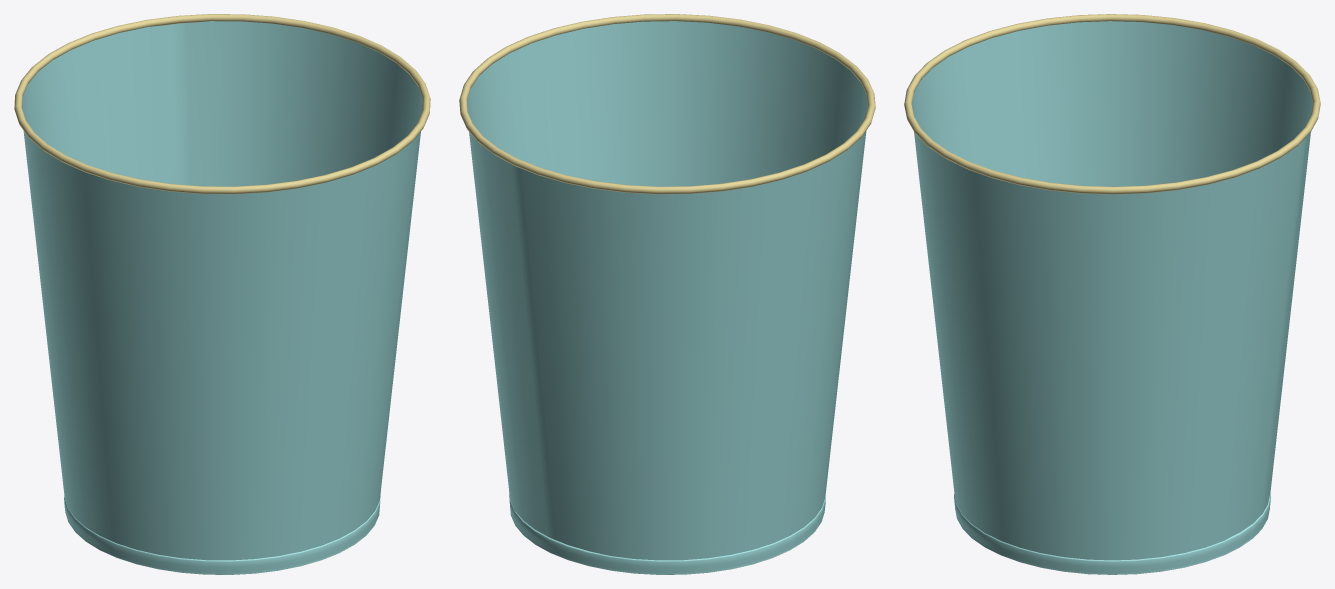
Rendered from Trash.obj.
The picture shows the model from 3 angles, left to right: view 1: azimuth 30°, elevation 25°; view 2: azimuth 150°, elevation 25°; view 3: azimuth 270°, elevation 25°; orthographic projection.
Parts seen in each view (by area): view 1: Cylinder001, Torus002, Object001; view 2: Cylinder001, Torus002, Object001; view 3: Cylinder001, Torus002, Object001.
Boxes of the visible parts, x1,y1,x2,y2 form: Cylinder001: [22, 21, 422, 560]; Torus002: [14, 14, 430, 194]; Object001: [64, 491, 380, 574]; Cylinder001: [467, 21, 867, 560]; Torus002: [459, 14, 875, 194]; Object001: [509, 491, 825, 574]; Cylinder001: [912, 21, 1312, 560]; Torus002: [904, 14, 1320, 194]; Object001: [954, 492, 1270, 574].
Bounding box in the file's own units: 1.93 × 2.09 × 1.93.
